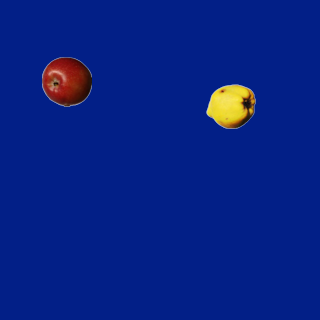Apple Braeburn: (41, 56, 91, 106)
Quince: (205, 81, 255, 131)
